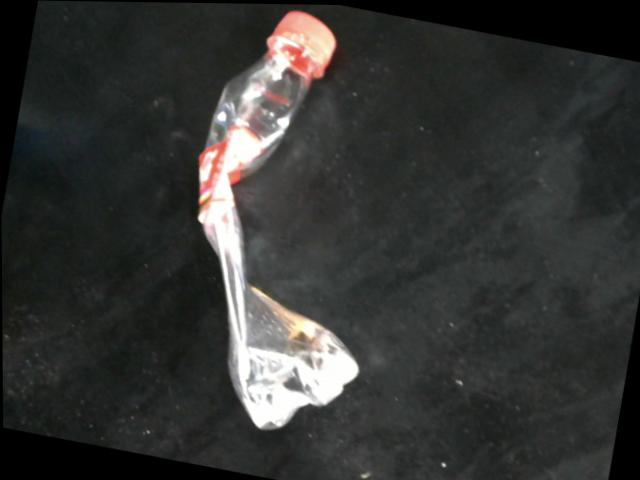bottle: (196, 7, 358, 437)
